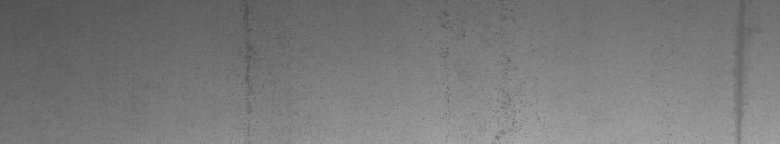ib: (438, 10, 522, 128)
